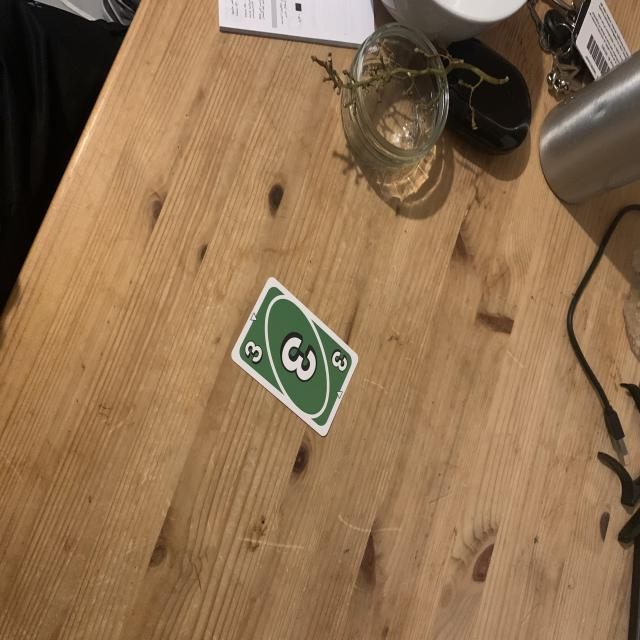lgreen-3: (244, 339, 264, 366)
